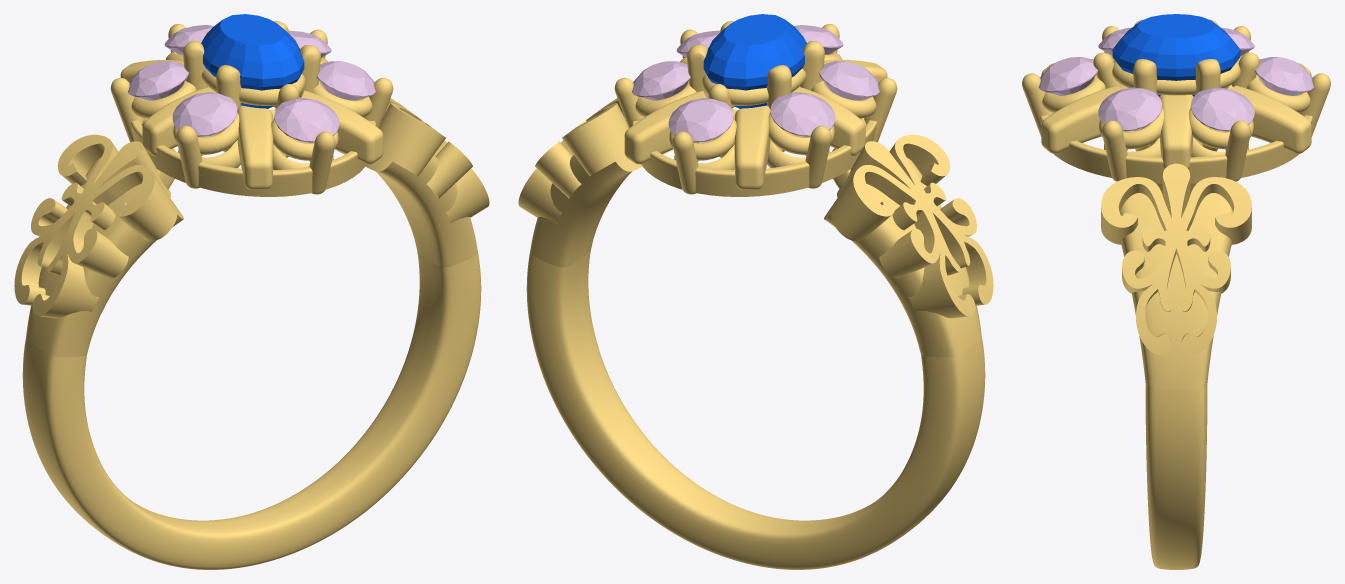
The model's file is JillDyg.glb.
3 renders of one model, left to right at view 1: azimuth 30°, elevation 25°; view 2: azimuth 150°, elevation 25°; view 3: azimuth 270°, elevation 25°, orthographic.
Visible parts, largest first — view 1: Jillian YG for 3d model, Jillian sapphire for 3d model, Jillian dia for 3d model.005, Jillian dia for 3d model, Jillian dia for 3d model.002, Jillian dia for 3d model.004, Jillian dia for 3d model.001; view 2: Jillian YG for 3d model, Jillian sapphire for 3d model, Jillian dia for 3d model.002, Jillian dia for 3d model.001, Jillian dia for 3d model.005, Jillian dia for 3d model.003, Jillian dia for 3d model; view 3: Jillian YG for 3d model, Jillian sapphire for 3d model, Jillian dia for 3d model.004, Jillian dia for 3d model.003, Jillian dia for 3d model, Jillian dia for 3d model.001.
Boxes of the visible parts, bbox=[...] form: Jillian YG for 3d model: bbox=[14, 21, 489, 569]; Jillian sapphire for 3d model: bbox=[201, 14, 304, 108]; Jillian dia for 3d model.005: bbox=[172, 92, 237, 136]; Jillian dia for 3d model: bbox=[274, 98, 339, 142]; Jillian dia for 3d model.002: bbox=[128, 61, 188, 100]; Jillian dia for 3d model.004: bbox=[316, 61, 375, 100]; Jillian dia for 3d model.001: bbox=[164, 25, 213, 54]; Jillian YG for 3d model: bbox=[518, 21, 993, 569]; Jillian sapphire for 3d model: bbox=[703, 14, 806, 108]; Jillian dia for 3d model.002: bbox=[770, 92, 835, 136]; Jillian dia for 3d model.001: bbox=[668, 98, 733, 142]; Jillian dia for 3d model.005: bbox=[819, 61, 879, 100]; Jillian dia for 3d model.003: bbox=[632, 61, 690, 100]; Jillian dia for 3d model: bbox=[794, 25, 843, 54]; Jillian YG for 3d model: bbox=[1022, 19, 1330, 569]; Jillian sapphire for 3d model: bbox=[1112, 14, 1240, 96]; Jillian dia for 3d model.004: bbox=[1098, 87, 1162, 131]; Jillian dia for 3d model.003: bbox=[1190, 87, 1254, 131]; Jillian dia for 3d model: bbox=[1038, 57, 1098, 95]; Jillian dia for 3d model.001: bbox=[1254, 57, 1314, 95].
Bounding box in the file's own units: 19.76 × 22.27 × 11.99.
